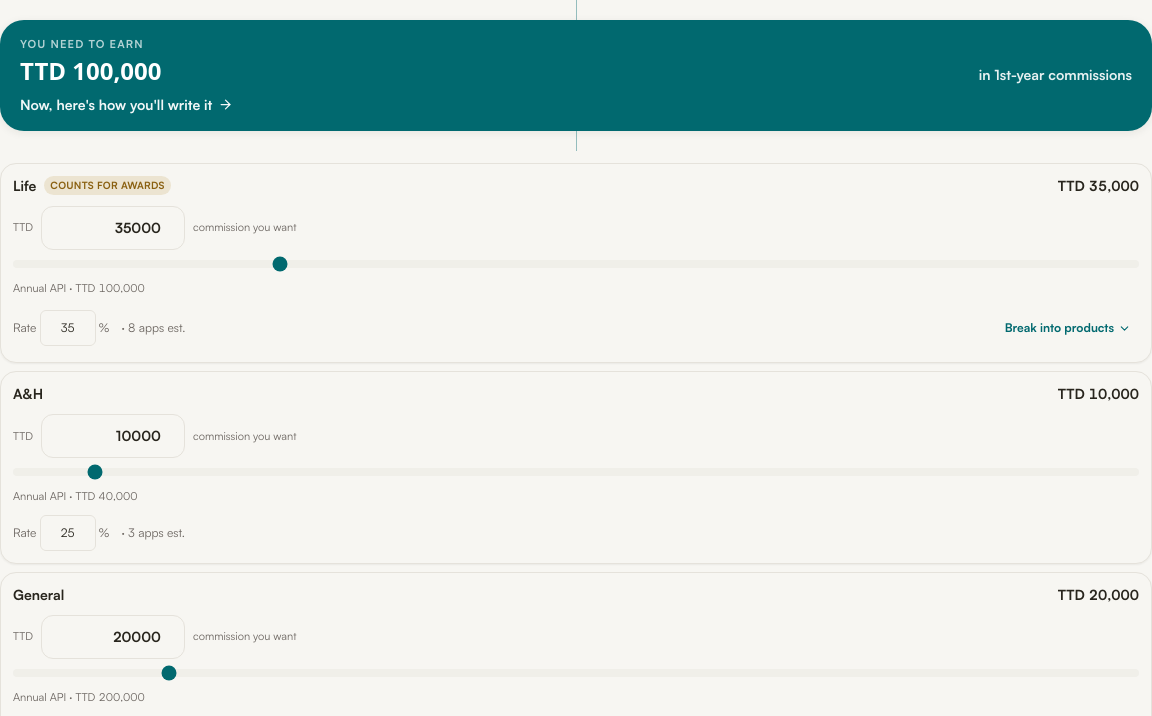
Test: MoneyNeedsAllocator — commission-first input model › commission field clamps to [0, required]
Replace the text in the number field with test id "alloc-line-commission-input-life" with "999999" at (113, 228), box top-left (41, 206), bottom-right (185, 250)
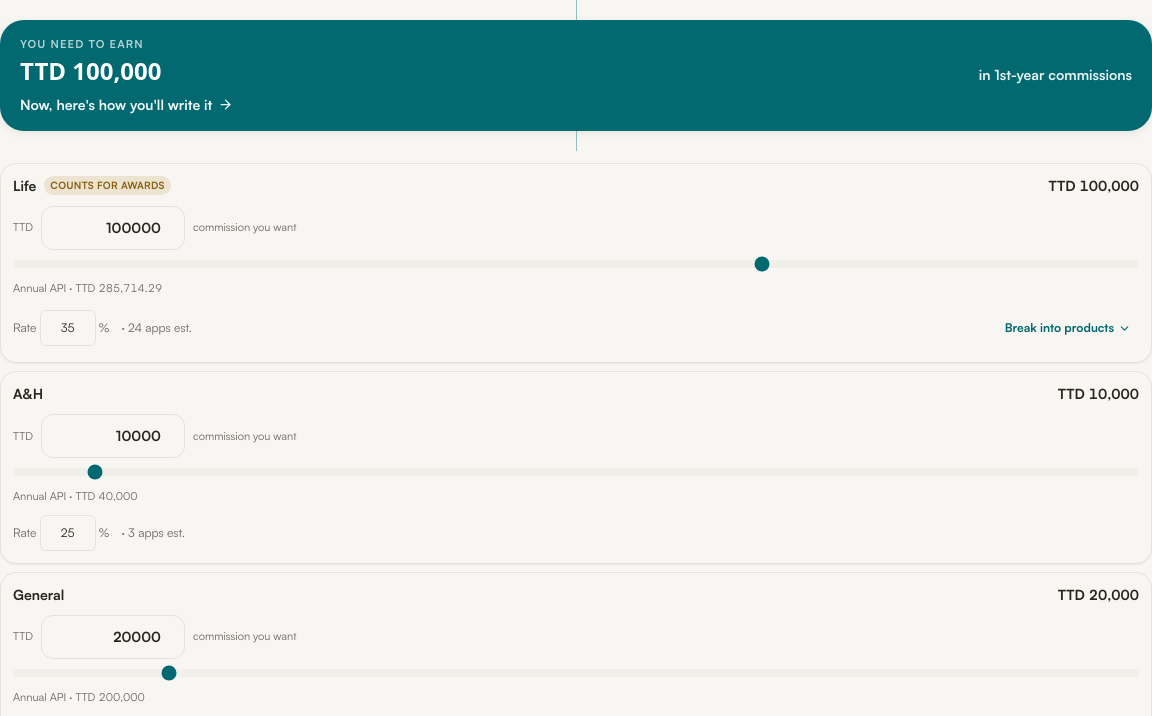
expect the number field with test id "alloc-line-commission-input-life" holds "100000": met, box top-left (41, 206), bottom-right (185, 250)
